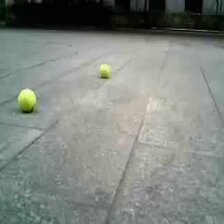tennis: (18, 88, 36, 112), (99, 63, 108, 77)
